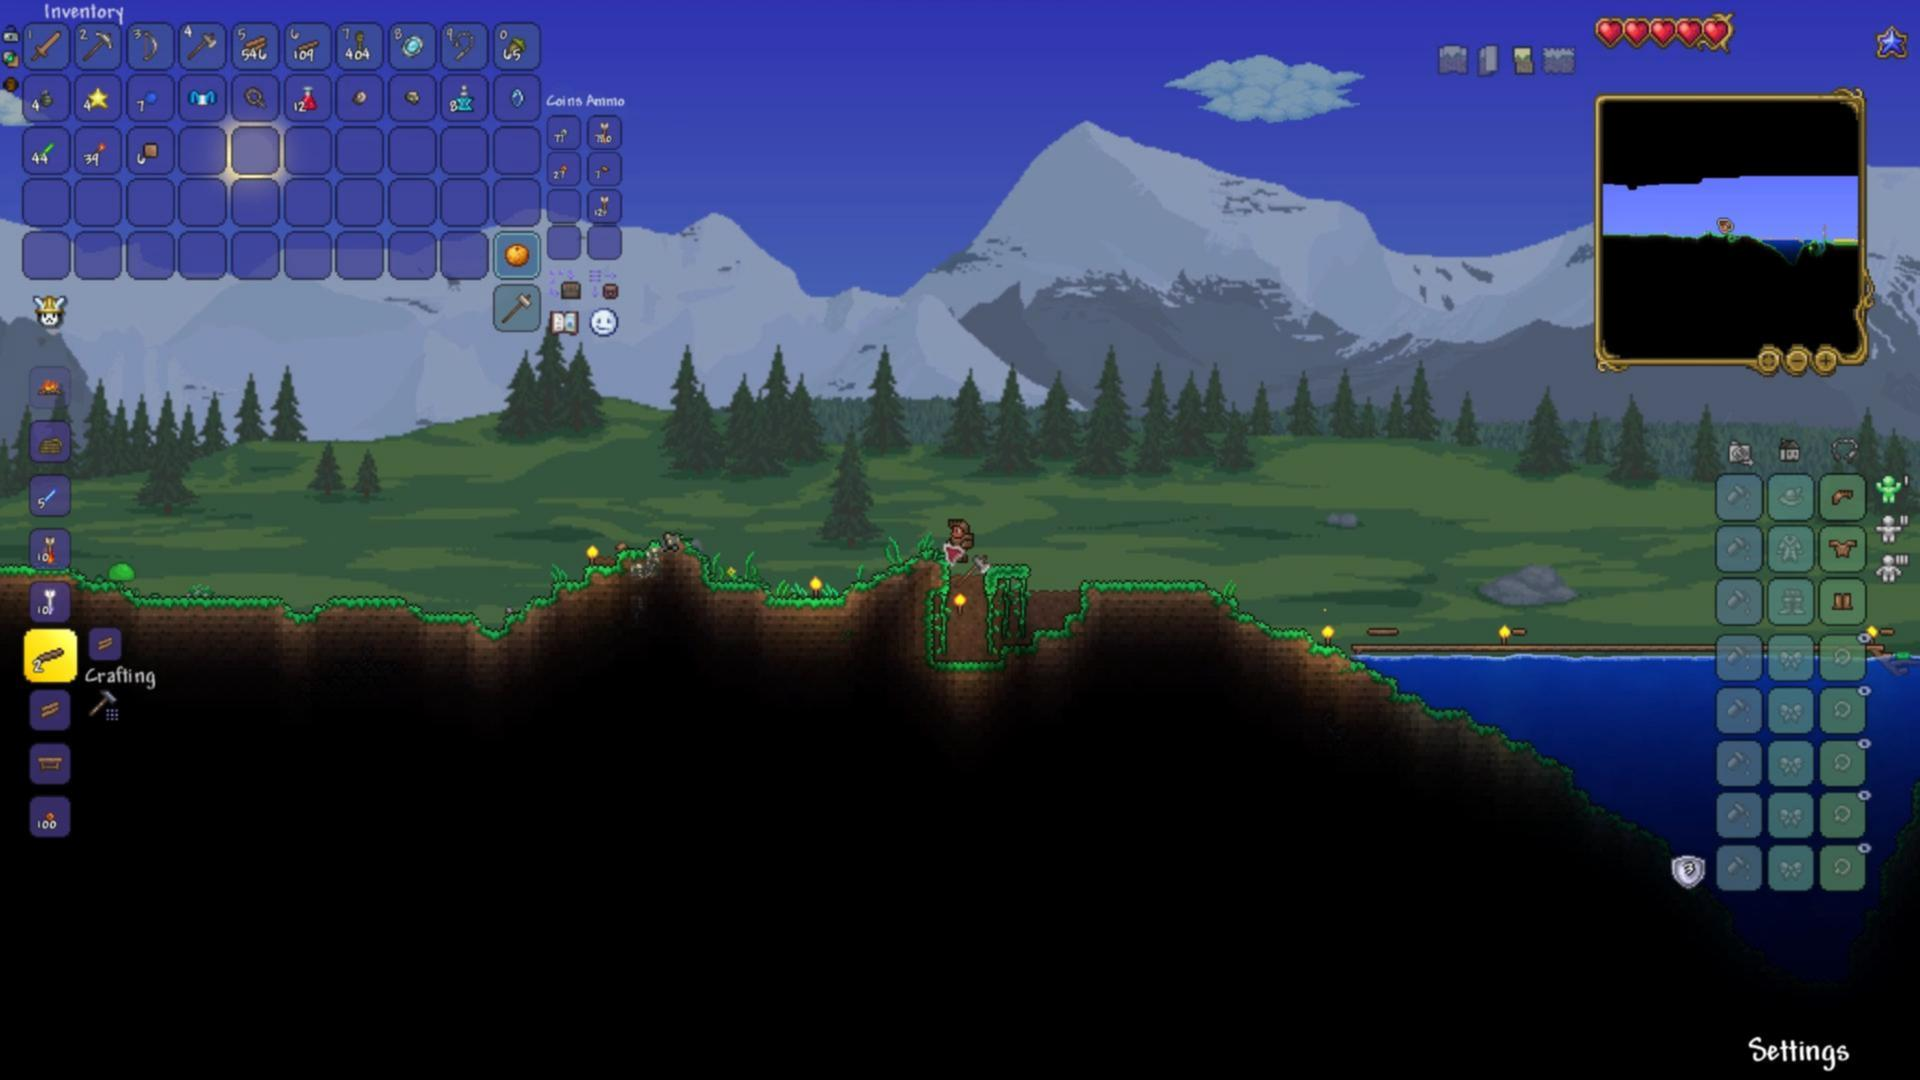grenade: (33, 84, 57, 109)
potion: (295, 84, 319, 116)
recallP: (450, 79, 473, 115)
slime: (103, 558, 137, 588)
star: (80, 83, 109, 112)
